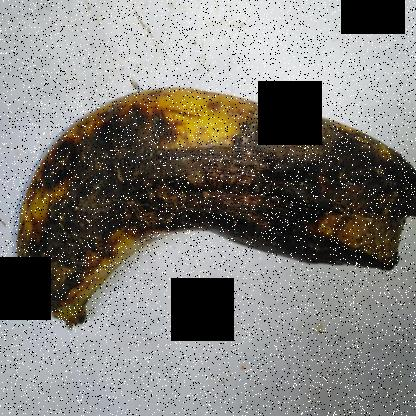rotten: (5, 76, 415, 326)
